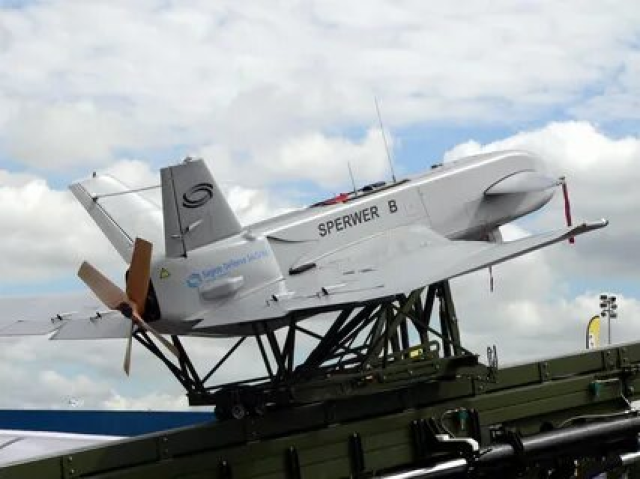military drone: (0, 96, 608, 376)
